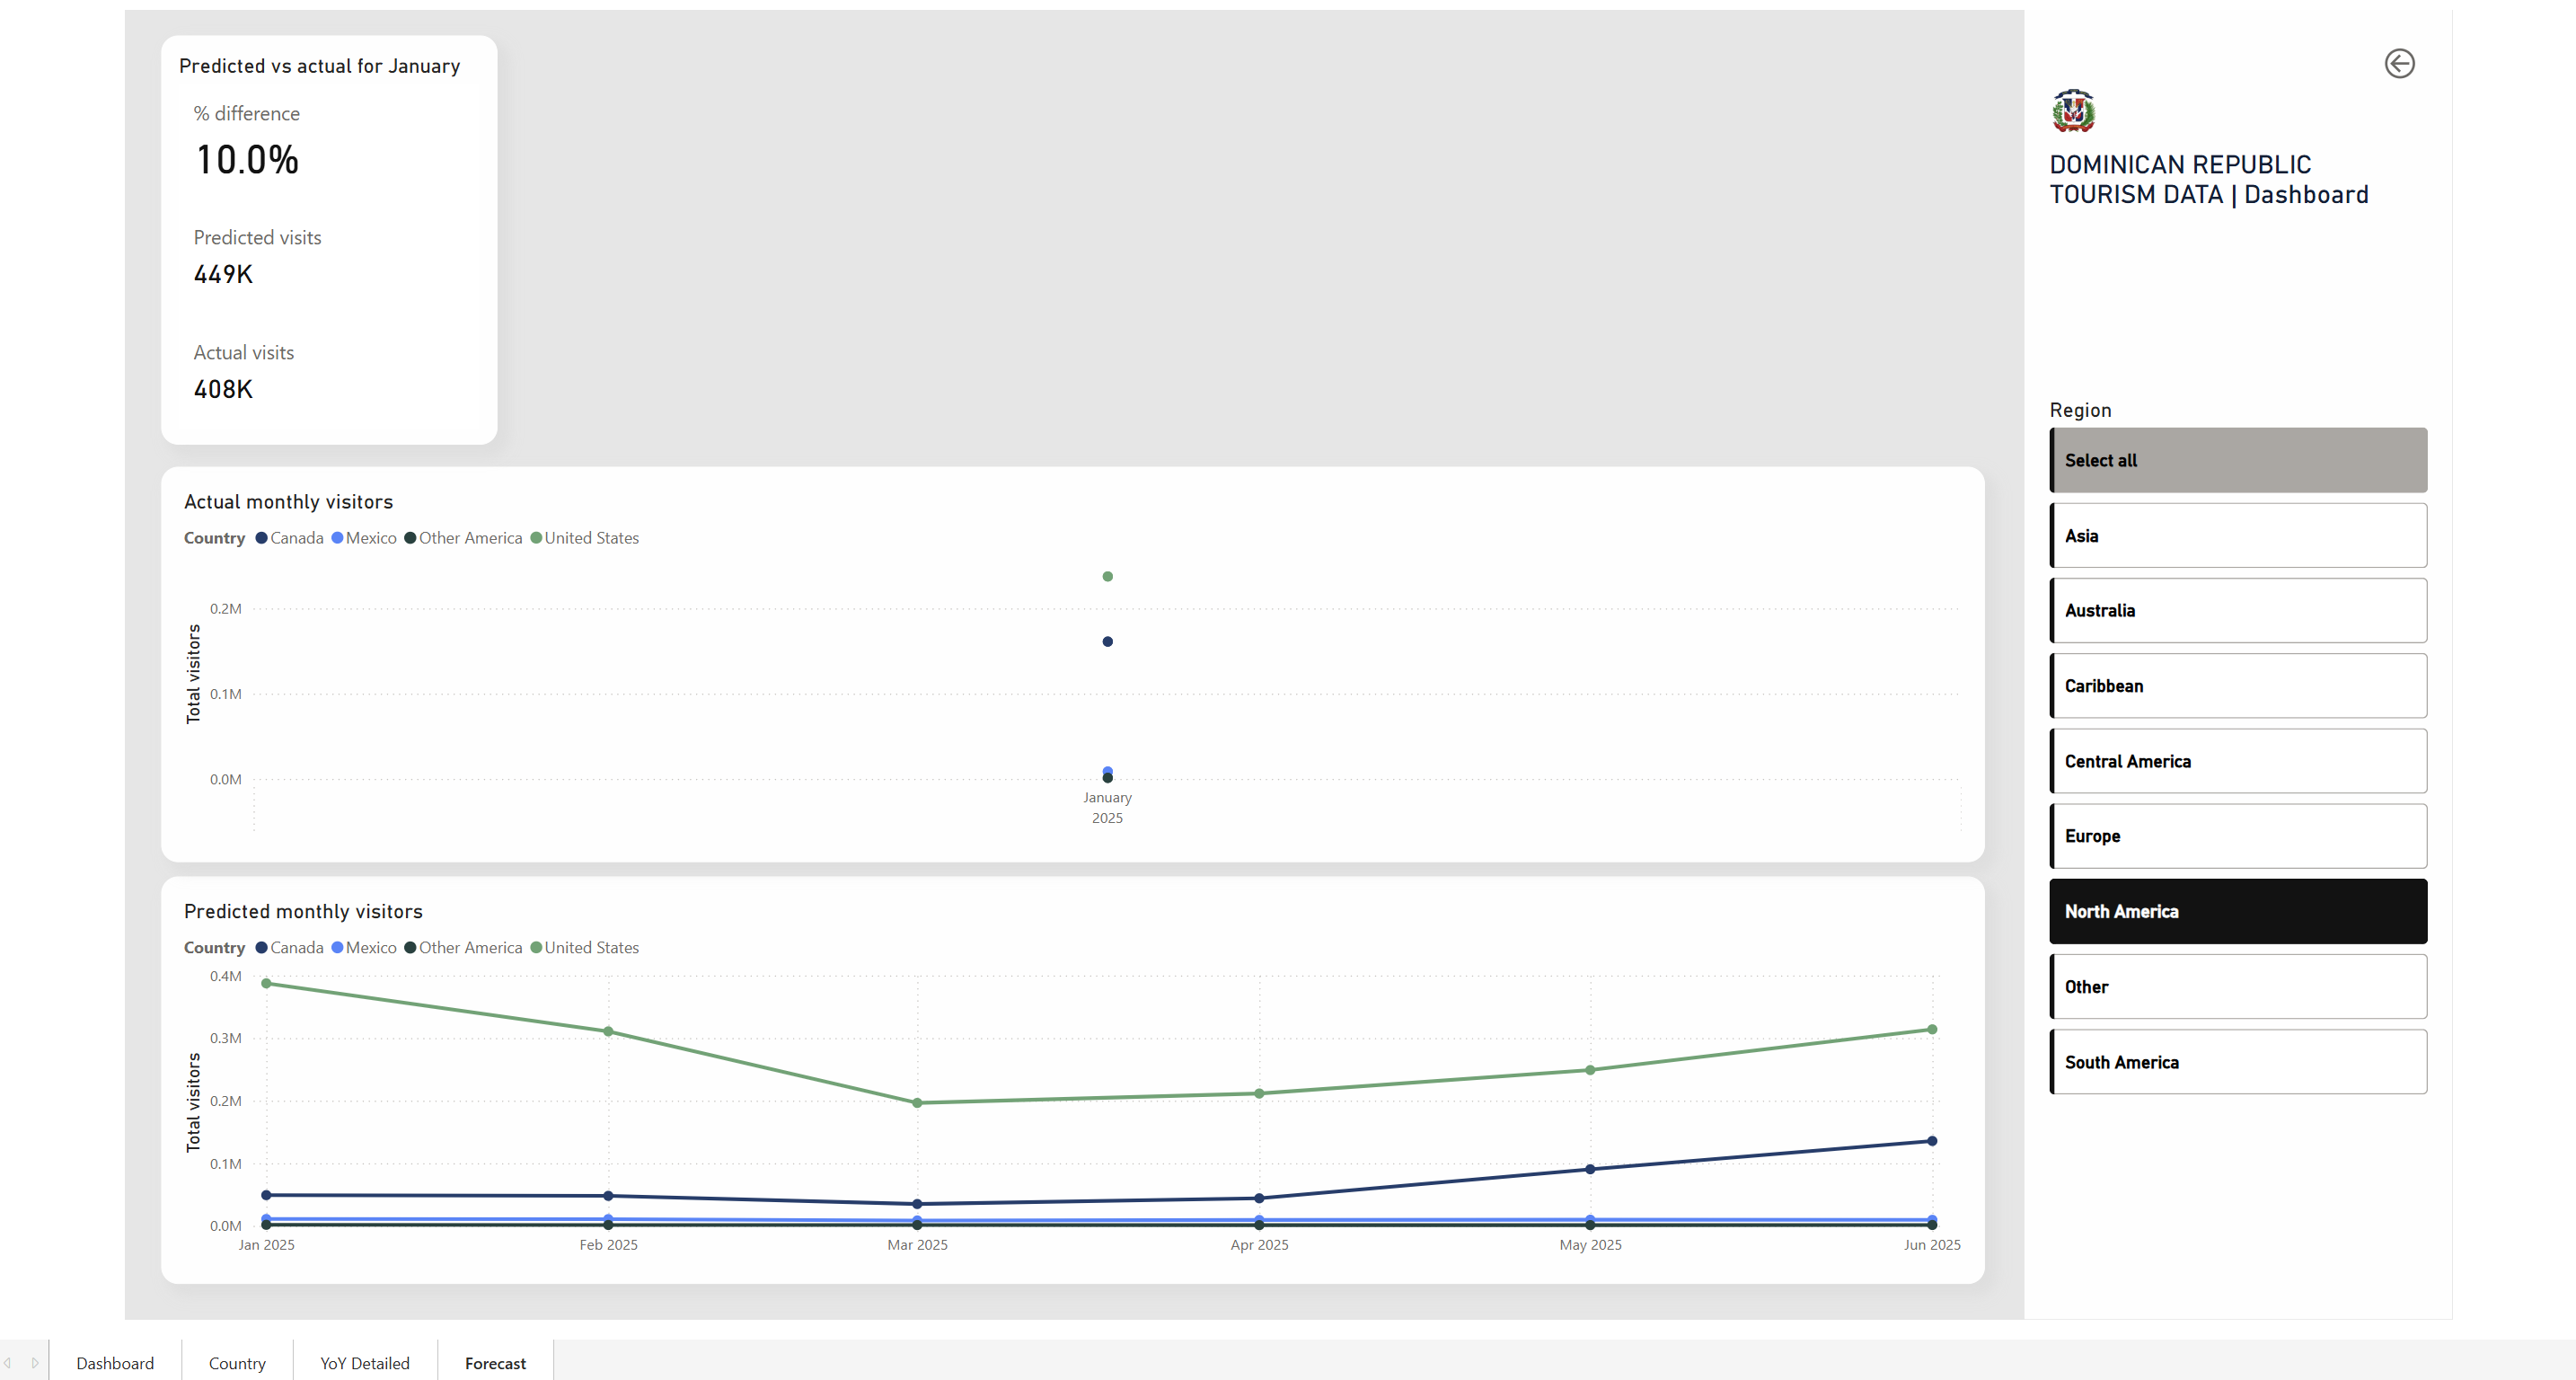

This screenshot's page, from the dashboard's own definition file:
{"tool":"powerbi","page":{"name":"Forecast","canvas":[1920,1080],"ordinal":3},"visuals":[{"type":"shape","box":[1567.1,0,352.9,1080],"z":0},{"type":"textbox","title":"DOMINICAN REPUBLIC TOURISM  DATA  | Dashboard","box":[1582,114,306,82],"z":1000},{"type":"image","box":[1582.9,60,48.6,45.7],"z":2000},{"type":"actionButton","box":[1858.3,26.7,38.3,35],"z":3000},{"type":"lineChart","title":"Predicted monthly visitors","fields":{"Category":["all_forecasts2025.Date"],"Series":["DRtourism_data.Country"],"Y":["Sum(all_forecasts2025.Predicted)"]},"box":[30,714.3,1504.3,335.7],"z":4000},{"type":"advancedSlicerVisual","fields":{"Values":["DRtourism_data.Region"]},"box":[1582.9,315.7,320,585.7],"z":5000},{"type":"lineChart","title":"Actual monthly visitors","fields":{"Series":["DRtourism_data.Country"],"Category":["DateTable.Year","DateTable.MonthName"],"Y":["Sum(DRtourism_data.TotalVisitors)"]},"box":[30,377.1,1504.3,325.7],"z":6000},{"type":"cardVisual","title":"Predicted vs actual for January","fields":{"Data":["DRtourism_data.% difference between predicted and actual","Sum(all_forecasts2025.Predicted)","Sum(DRtourism_data.TotalVisitors)"]},"box":[30,21.4,277.1,337.1],"z":7000}]}

Visuals, with their boxes on the page's 1920x1080 design canvas (x1, y1, x2, y2). These are canvas units, not pixel positions in the 2576x1380 screenshot, which may show the page scaled, cropped or inside an application window:
shape: x1=1567, y1=0, x2=1920, y2=1080
"DOMINICAN REPUBLIC TOURISM  DATA  | Dashboard" textbox: x1=1582, y1=114, x2=1888, y2=196
image: x1=1583, y1=60, x2=1632, y2=106
actionButton: x1=1858, y1=27, x2=1897, y2=62
"Predicted monthly visitors" lineChart: x1=30, y1=714, x2=1534, y2=1050
advancedSlicerVisual - DRtourism_data.Region: x1=1583, y1=316, x2=1903, y2=901
"Actual monthly visitors" lineChart: x1=30, y1=377, x2=1534, y2=703
"Predicted vs actual for January" cardVisual: x1=30, y1=21, x2=307, y2=358
